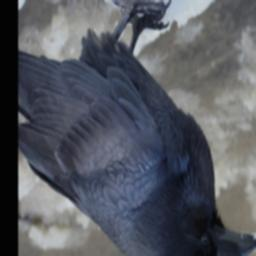Crow: (20, 0, 256, 256)
